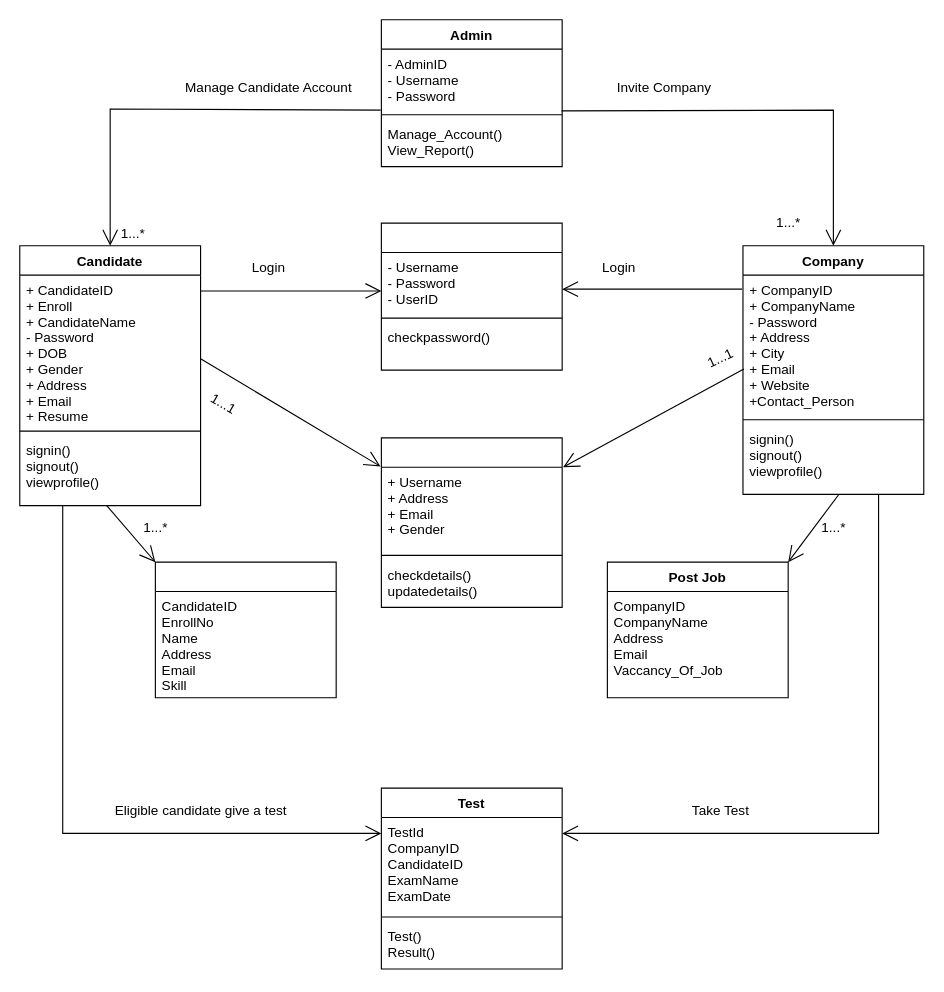
The diagram is 944 pixels wide and 992 high, and some of its shapes have lost their labels. The shapes that lost their labels are listed below. From the top down, each one's box as (x1, y1, x2, y2) in pixels, then its label:
(380, 222, 562, 370): Authentication_Center
(380, 437, 562, 607): Registration
(154, 561, 336, 698): Apply Job
